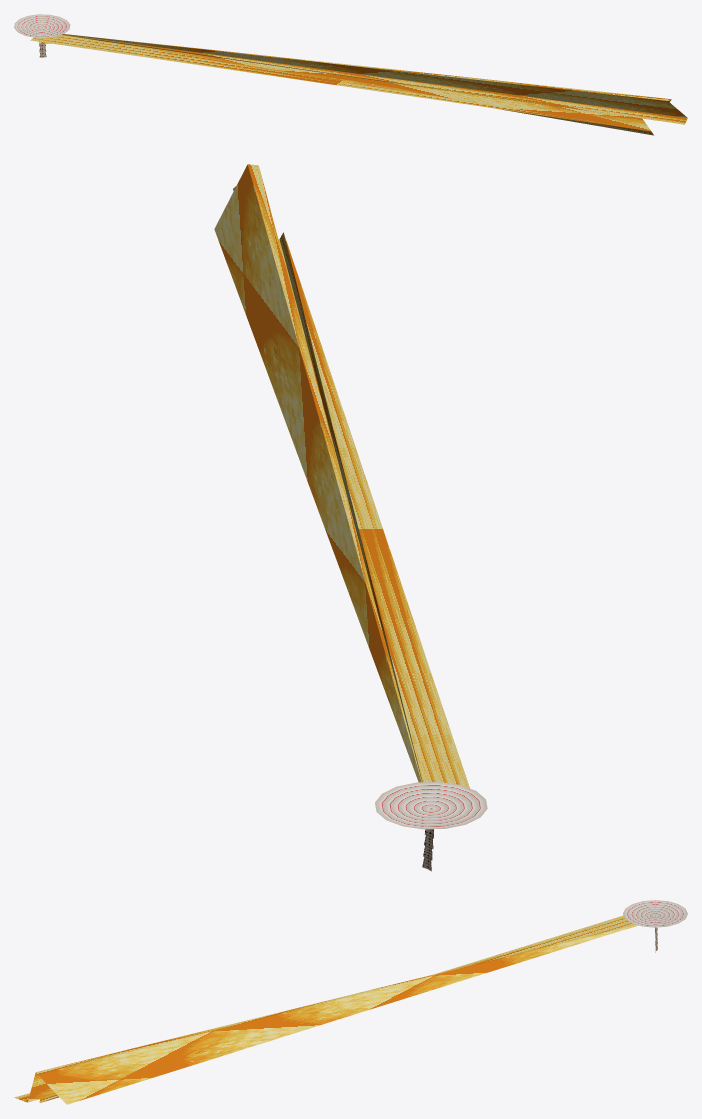
The model's file is 1066item537.gltf.
3 renders of one model, top to bottom at view 1: azimuth 30°, elevation 25°; view 2: azimuth 150°, elevation 25°; view 3: azimuth 270°, elevation 25°, orthographic. The views are drawn at different scales.
Visible parts, largest first — view 1: 1066item537; view 2: 1066item537; view 3: 1066item537.
Boxes of the visible parts, x1,y1,x2,y2 form: 1066item537: [14, 14, 687, 135]; 1066item537: [214, 164, 487, 871]; 1066item537: [14, 900, 687, 1104].
Bounding box in the file's own units: 8.97 × 1.46 × 11.48.
Materials: 3 (3 with a texture image).
